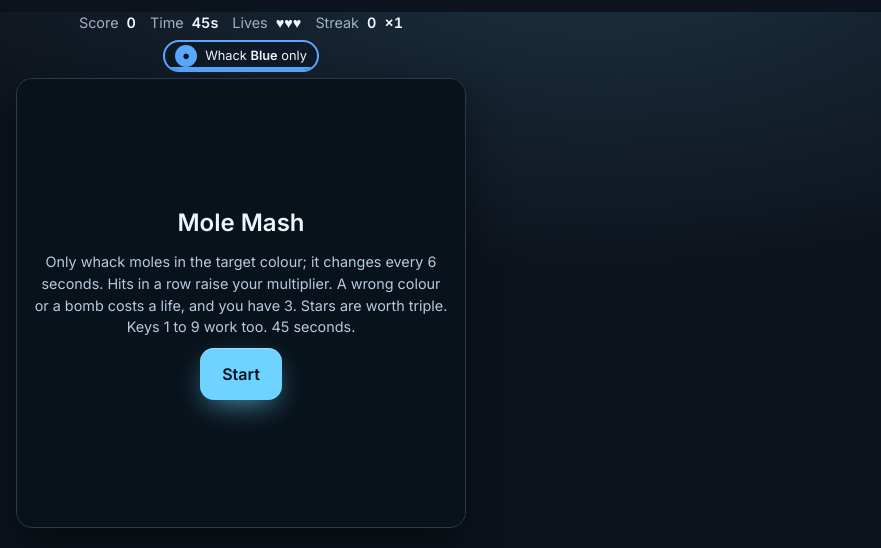
Test: MoleMash › reports a finished run exactly once under StrictMode
Click the button "Start": (241, 374) [200, 348, 282, 400]
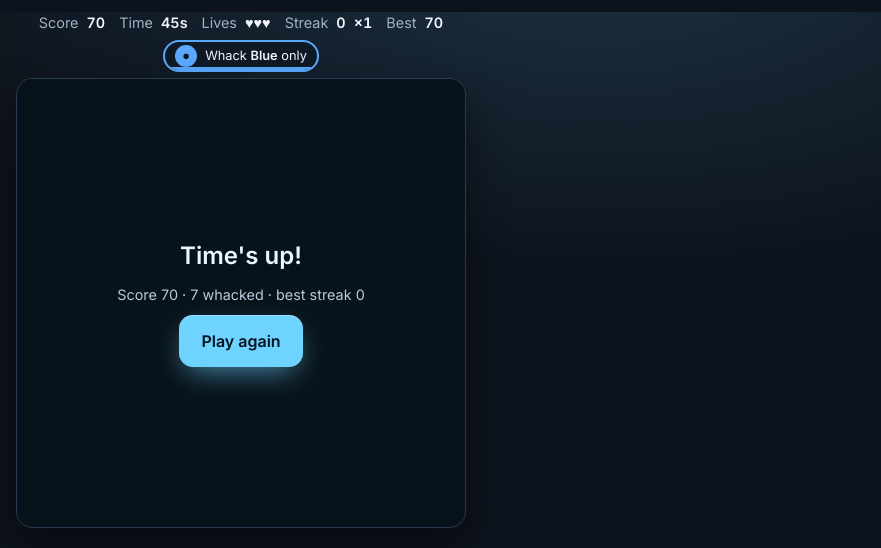
Now the text "Time's up!" is shown, box [180, 238, 302, 274]
